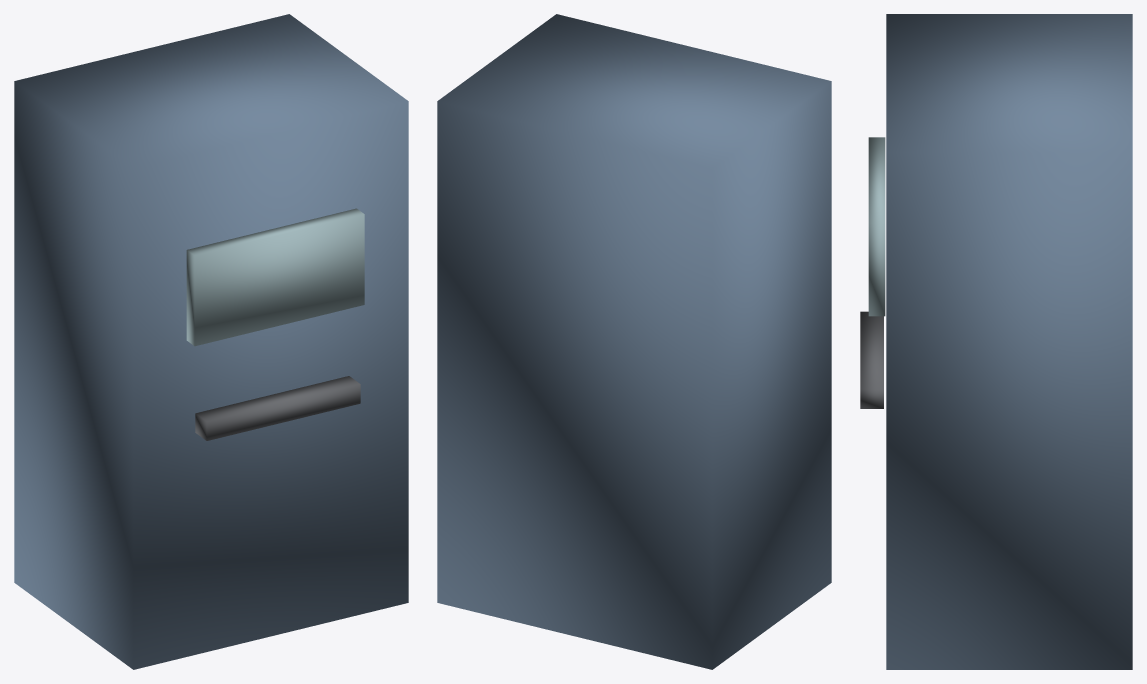
The model's file is information_kiosk__squat.glb.
3 views of the same model, side by side, from view 1: azimuth 30°, elevation 25°; view 2: azimuth 150°, elevation 25°; view 3: azimuth 270°, elevation 25° (orthographic). The views are drawn at different scales.
Visible parts, largest first — view 1: world; view 2: world; view 3: world.
Part boxes in pixels (x1,y1,x2,y2): world: (14, 14, 408, 669); world: (437, 14, 831, 669); world: (860, 14, 1132, 669).
Size of the model in its own units: 0.748 by 1.3 by 0.621.
